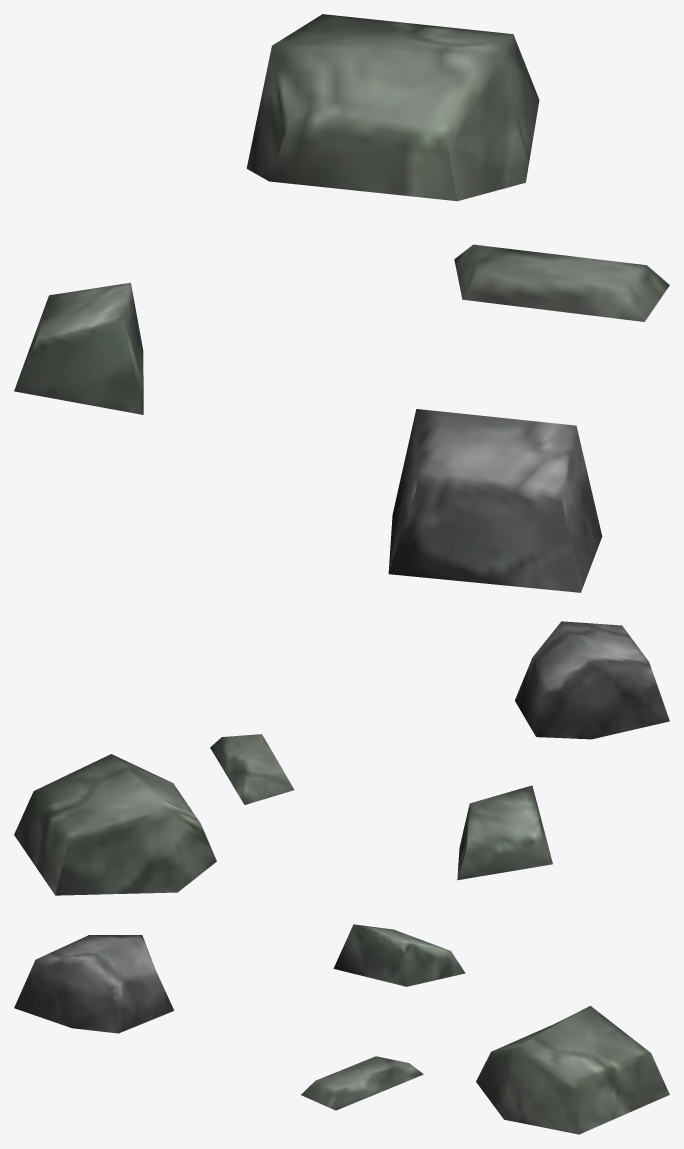
The model's file is Area_06_45.fbx.
3 renders of one model, top to bottom at view 1: azimuth 30°, elevation 25°; view 2: azimuth 150°, elevation 25°; view 3: azimuth 270°, elevation 25°, orthographic. The views are drawn at different scales.
Parts seen in each view (by area): view 1: Area_06_45; view 2: Area_06_45; view 3: Area_06_45.
Boxes of the visible parts, x1,y1,x2,y2 form: Area_06_45: (14, 14, 669, 592); Area_06_45: (14, 621, 669, 895); Area_06_45: (14, 924, 669, 1134).
Size of the model in its own units: 290 by 48.94 by 434.
